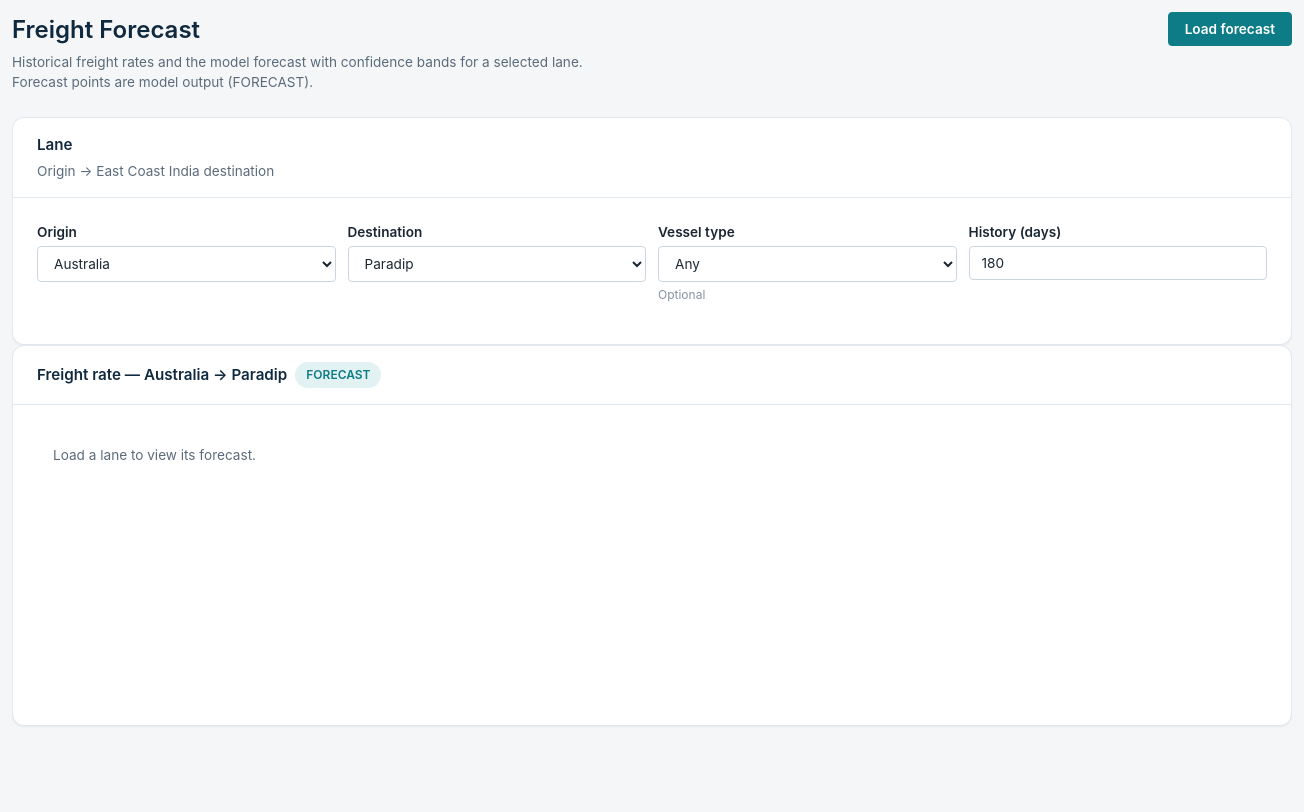
Test case: FreightForecastPage › shows a graceful empty state when the lane has no data
This screenshot has width=1304, height=812.
Click the button "Load forecast" at (1230, 29), box [1168,12,1292,46]
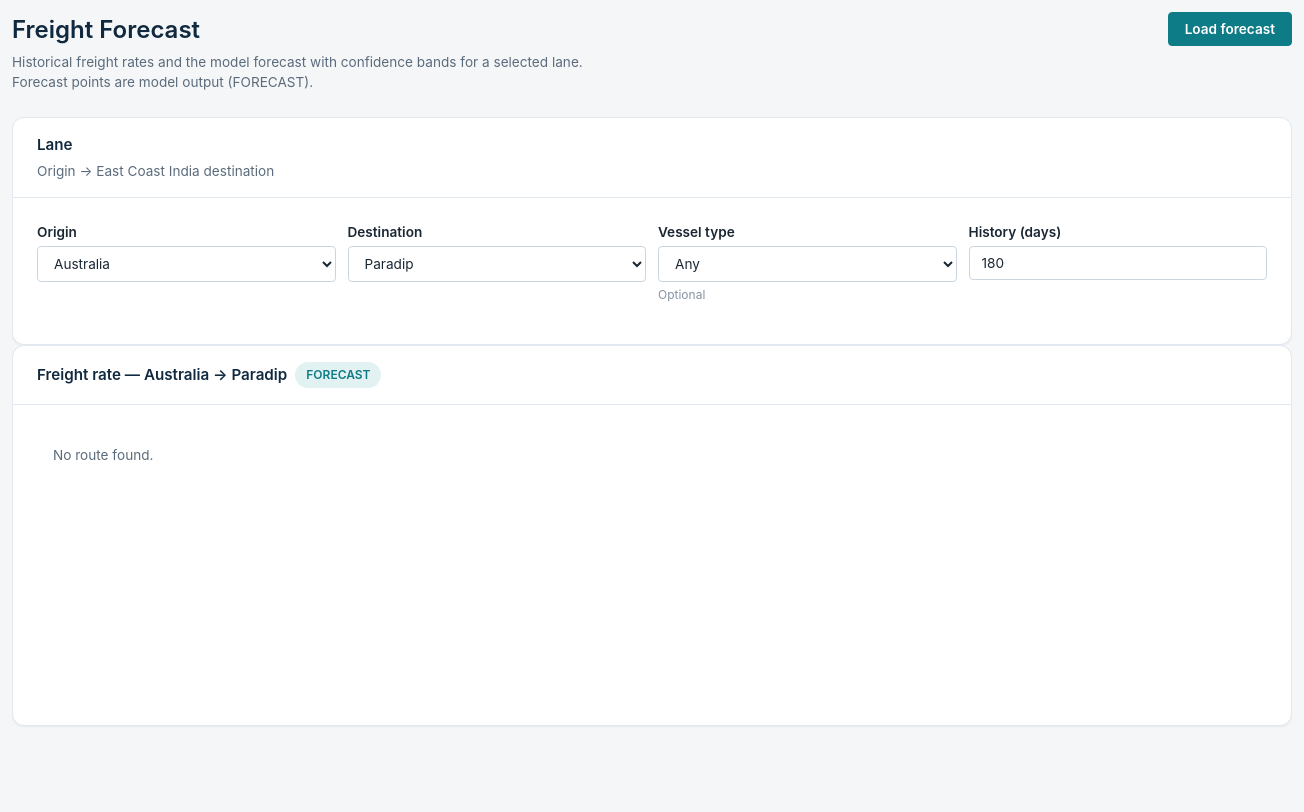
Result: the text "No route found." is shown at [53,446,154,462]
